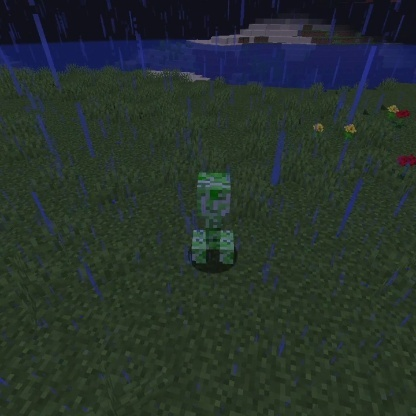creeper: (187, 169, 239, 269)
